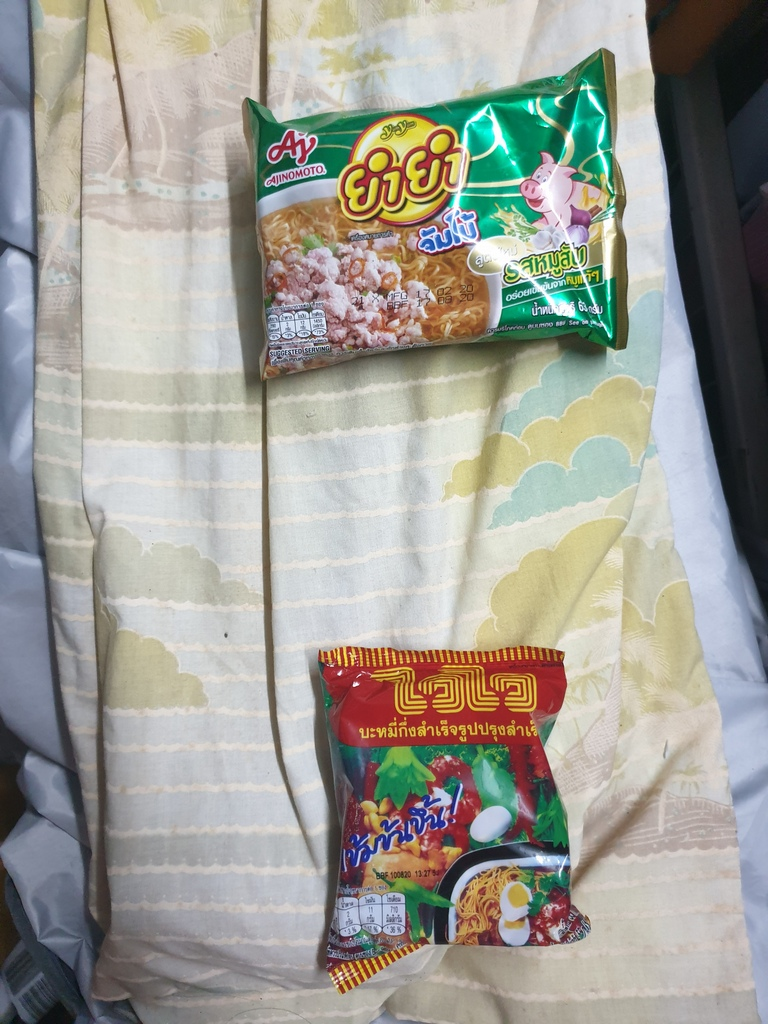waiwai: (308, 632, 590, 967)
yumyum: (233, 82, 641, 362)
